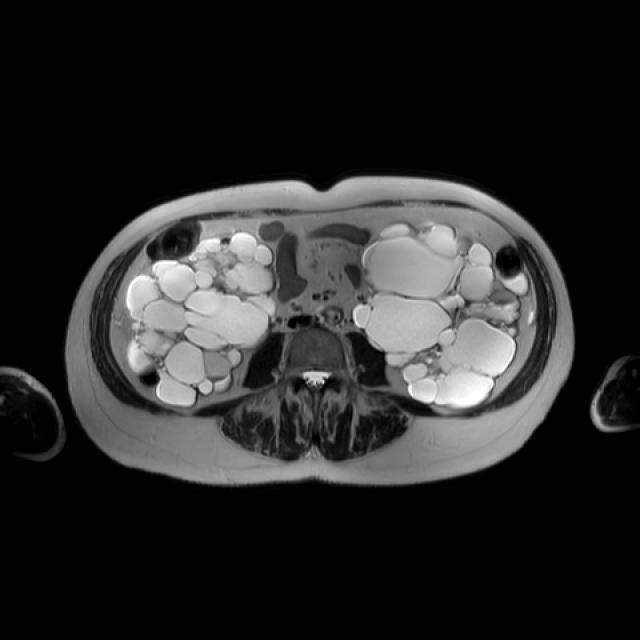sag: (128, 234, 277, 405)
sol: (356, 221, 521, 409)
